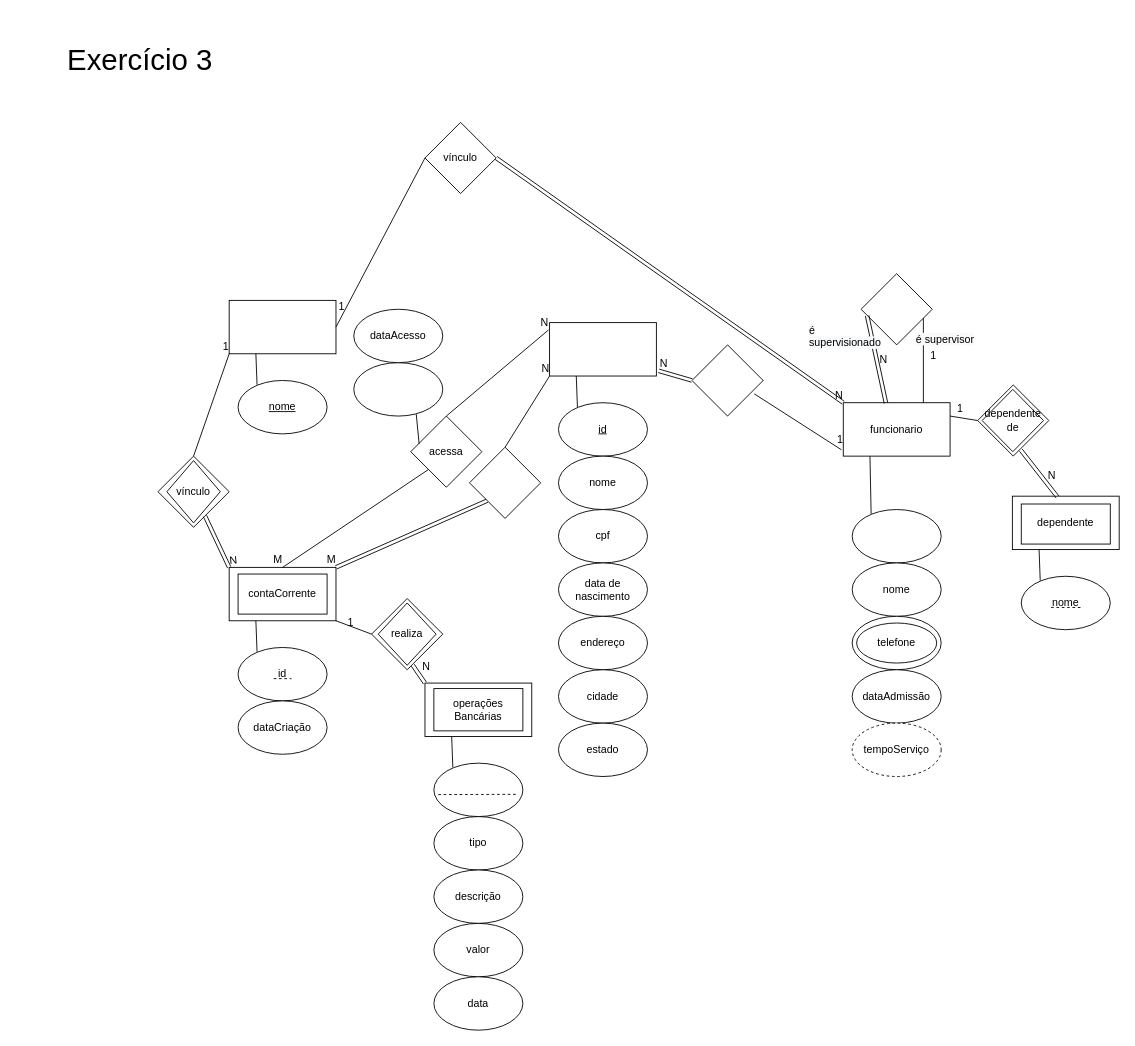
Image size: 1135x1046. Some labels were removed from this diagram. Here are the shapes that lost their labels. From the top down, the centre of each, then its label:
At (282,326): "agência".
At (896,309): "supervisor".
At (602,349): "cliente".
At (398,389): "saldo".
At (727,380): "gerente".
At (505,482): "possui".
At (896,536): "numFuncional".
At (478,789): "numSequencial".
